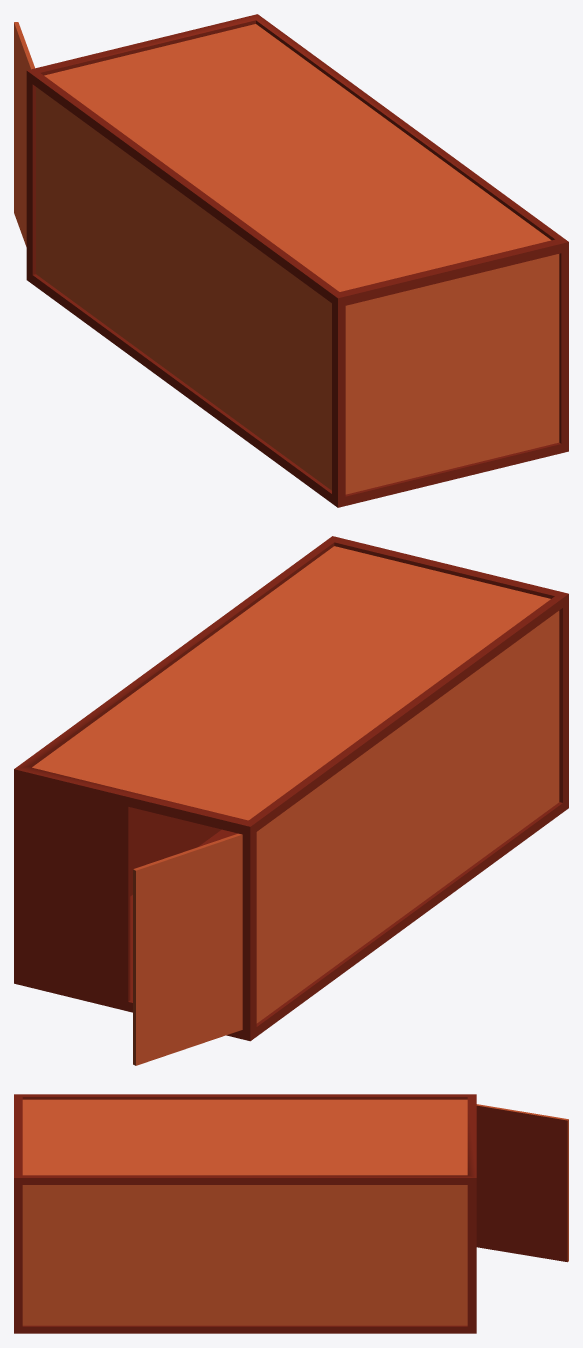
File: Containers-Cargo.glb
3 renders of one model, top to bottom at view 1: azimuth 30°, elevation 25°; view 2: azimuth 150°, elevation 25°; view 3: azimuth 270°, elevation 25°, orthographic. The views are drawn at different scales.
Visible parts, largest first — view 1: Cargo Container Blue Boxes; view 2: Cargo Container Blue Boxes; view 3: Cargo Container Blue Boxes.
Part boxes in pixels (x1,y1,x2,y2): Cargo Container Blue Boxes: (14, 14, 568, 507); Cargo Container Blue Boxes: (14, 536, 568, 1065); Cargo Container Blue Boxes: (14, 1094, 568, 1333).
Size of the model in its own units: 3 by 2.6 by 8.4.
1 material, 1 textured.
